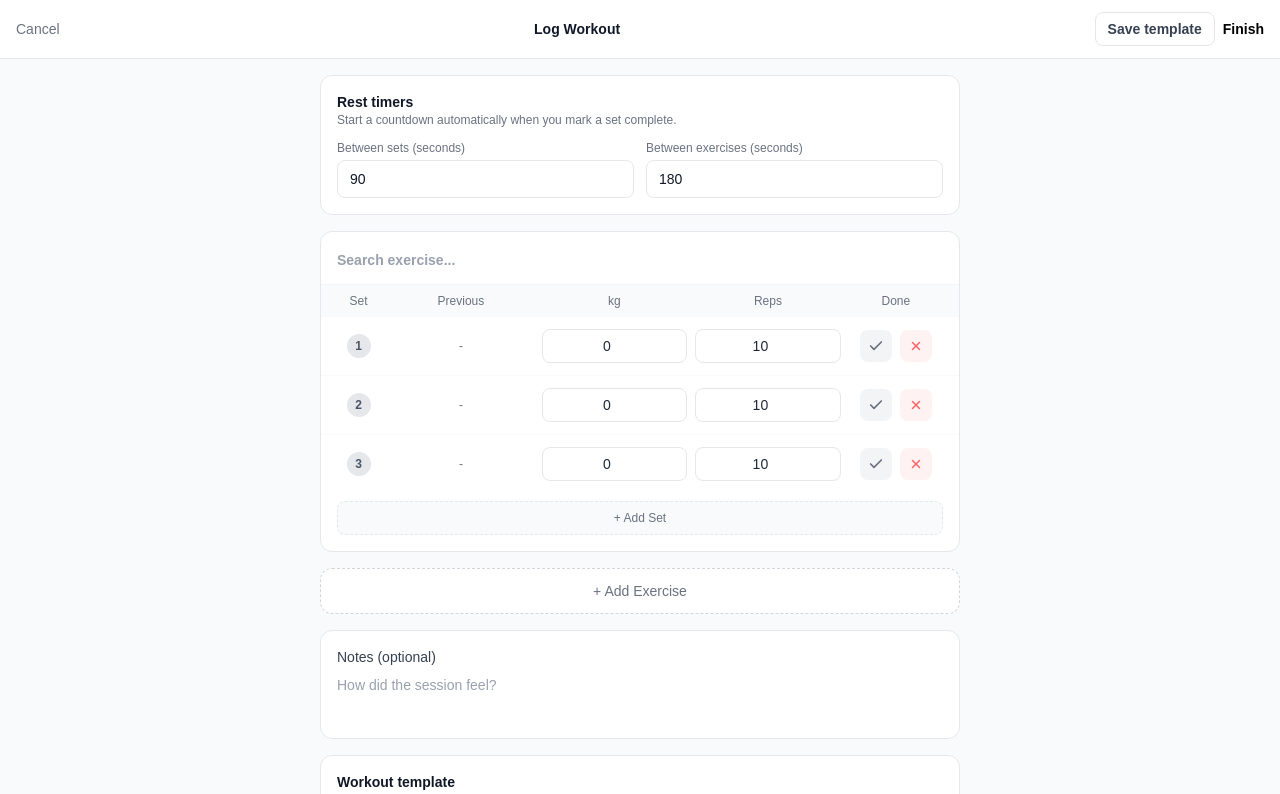
Scenario: LogWorkoutForm › validates that exercise name is required before submit
Click the button "Finish" at (1243, 29), box [1223,19,1264,39]
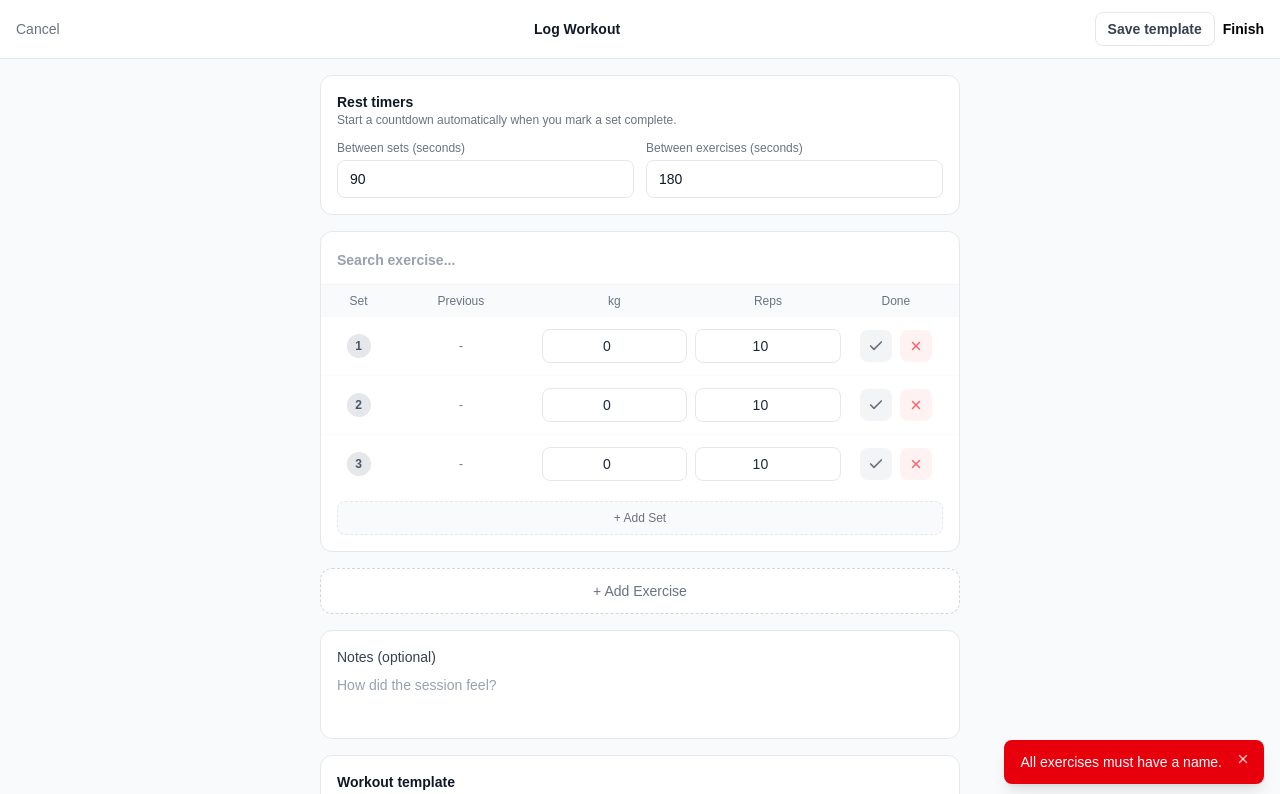
Now the text "All exercises must have a name." is shown, box [1020,752,1222,772]
